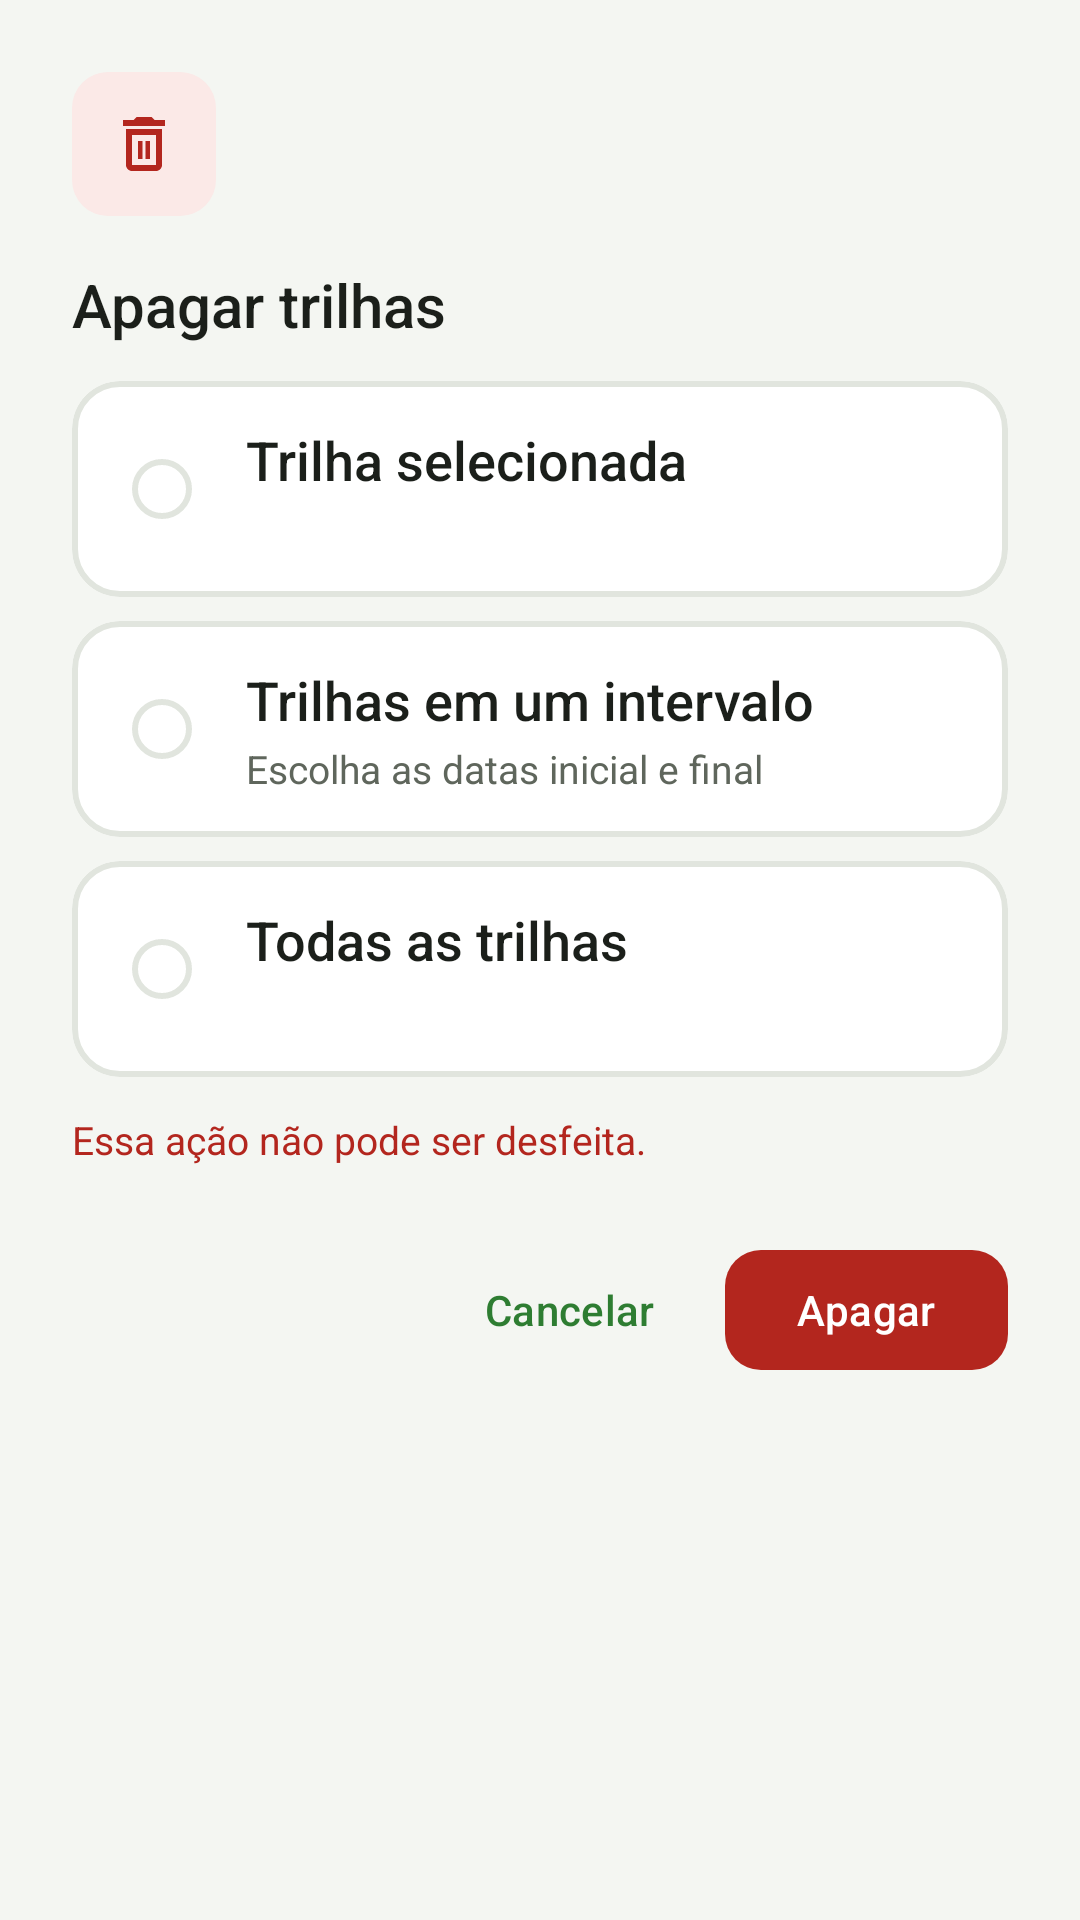

Named icons in this screenshot (1080 x 1920) and their bounding boxes, (x1, y1, x2, y2):
delete: (123, 117, 165, 171)
